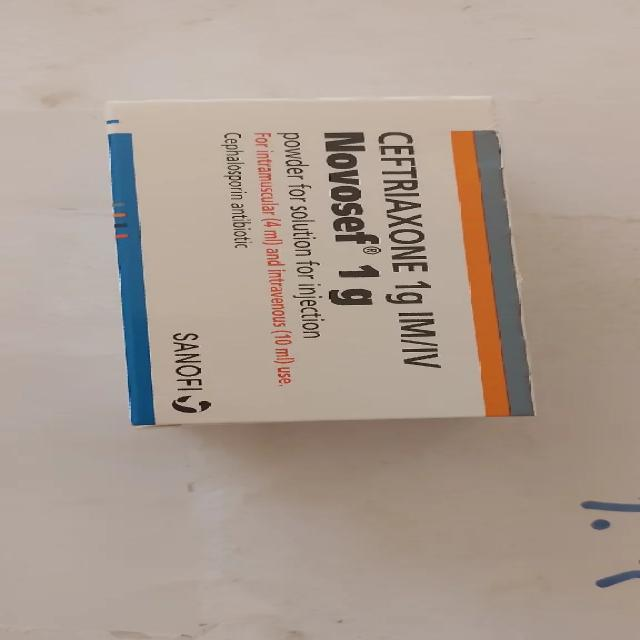drug-name: (318, 129, 379, 248)
